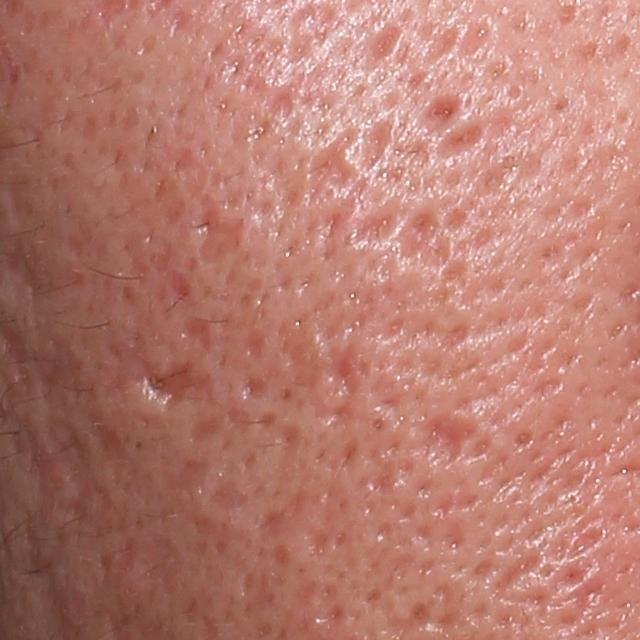atrophic_scar: (289, 341, 369, 438), (97, 341, 213, 406), (306, 123, 359, 209), (343, 193, 411, 256), (413, 410, 480, 472), (192, 194, 246, 267), (428, 108, 489, 165), (386, 205, 440, 266), (356, 111, 399, 178), (207, 458, 251, 513), (3, 244, 50, 294), (369, 18, 409, 73), (416, 91, 463, 134), (257, 82, 299, 127), (187, 408, 227, 448), (180, 314, 214, 356), (299, 519, 333, 561), (161, 265, 196, 305), (238, 373, 275, 407), (254, 506, 287, 543)
